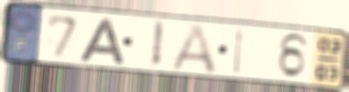6: (274, 32, 310, 80)
7: (46, 14, 81, 59)
A: (168, 22, 220, 75), (77, 17, 126, 65)
I: (148, 19, 167, 70), (231, 26, 246, 76)
